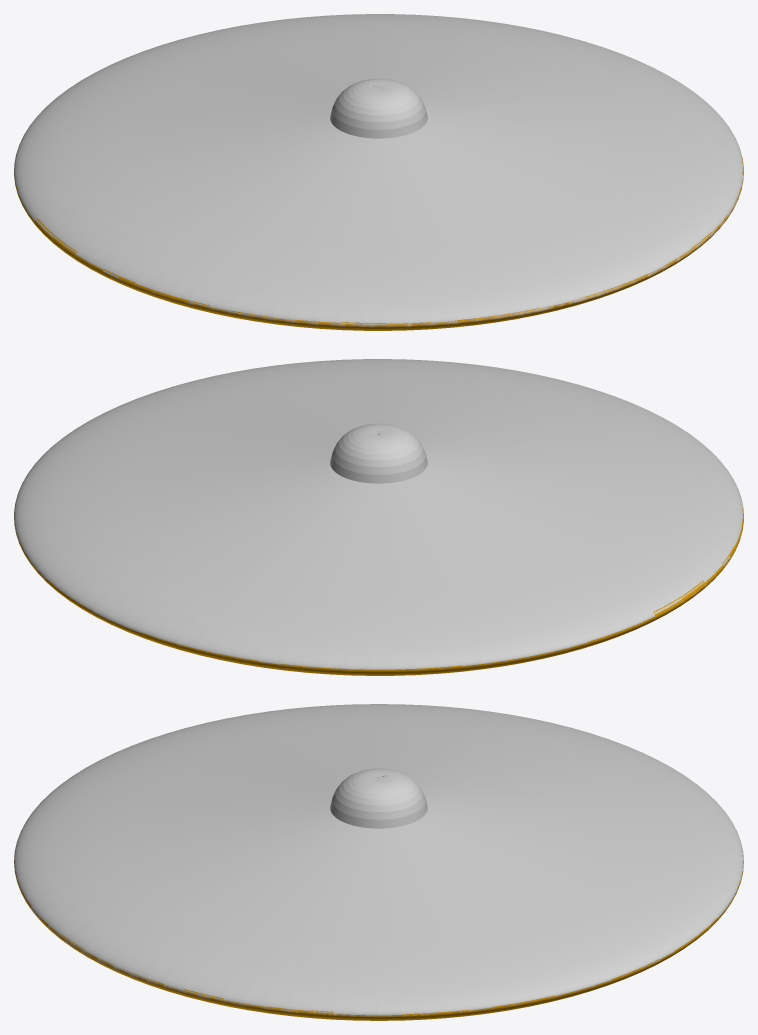
Rendered from UFO.obj.
The picture shows the model from 3 angles, top to bottom: view 1: azimuth 30°, elevation 25°; view 2: azimuth 150°, elevation 25°; view 3: azimuth 270°, elevation 25°; orthographic projection.
Visible parts, largest first — view 1: BezierCurve.002_Mesh.003; view 2: BezierCurve.002_Mesh.003; view 3: BezierCurve.002_Mesh.003.
Part boxes in pixels (x1,y1,x2,y2): BezierCurve.002_Mesh.003: (14, 14, 743, 330); BezierCurve.002_Mesh.003: (14, 359, 743, 675); BezierCurve.002_Mesh.003: (14, 704, 743, 1020).
Bounding box in the file's own units: 4.97 × 1.3 × 4.97.
